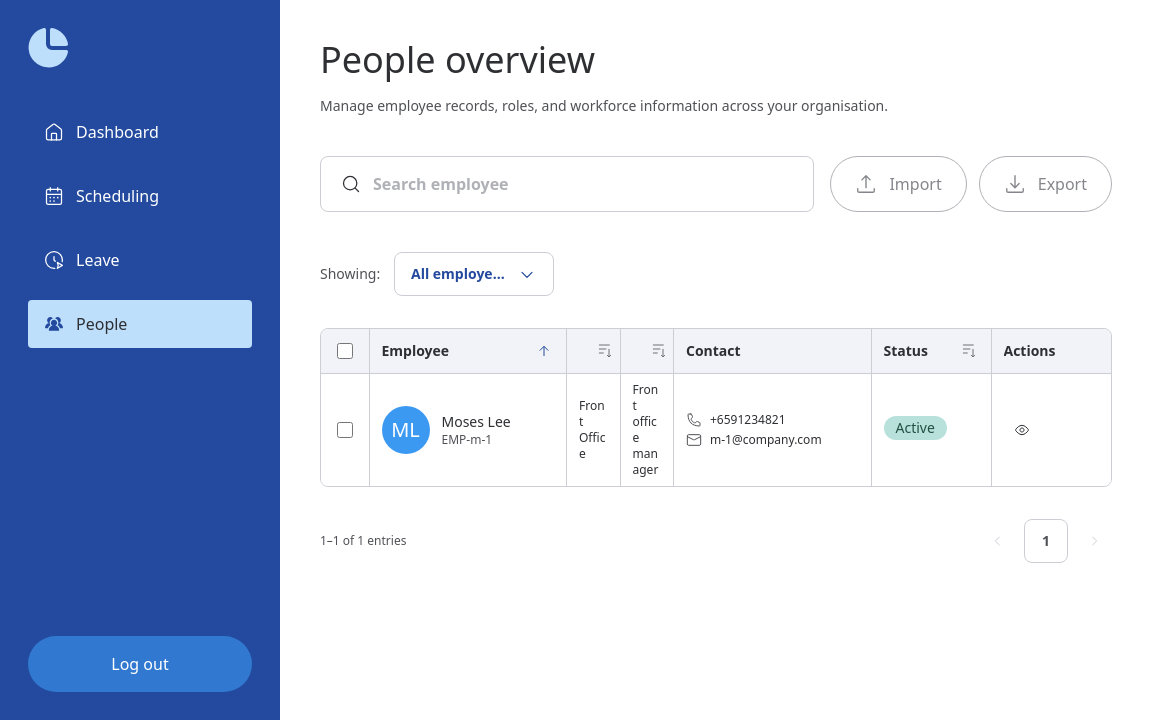
Test case: People › clears ticked people from the bulk bar
The width and height of the screenshot is (1152, 720).
Expected: the link "Moses Lee" is shown, x1=442 y1=412 x2=511 y2=432
Click the checkbox named "Select Moses Lee" next to "ML" at [345, 430], box x1=337 y1=422 x2=353 y2=438
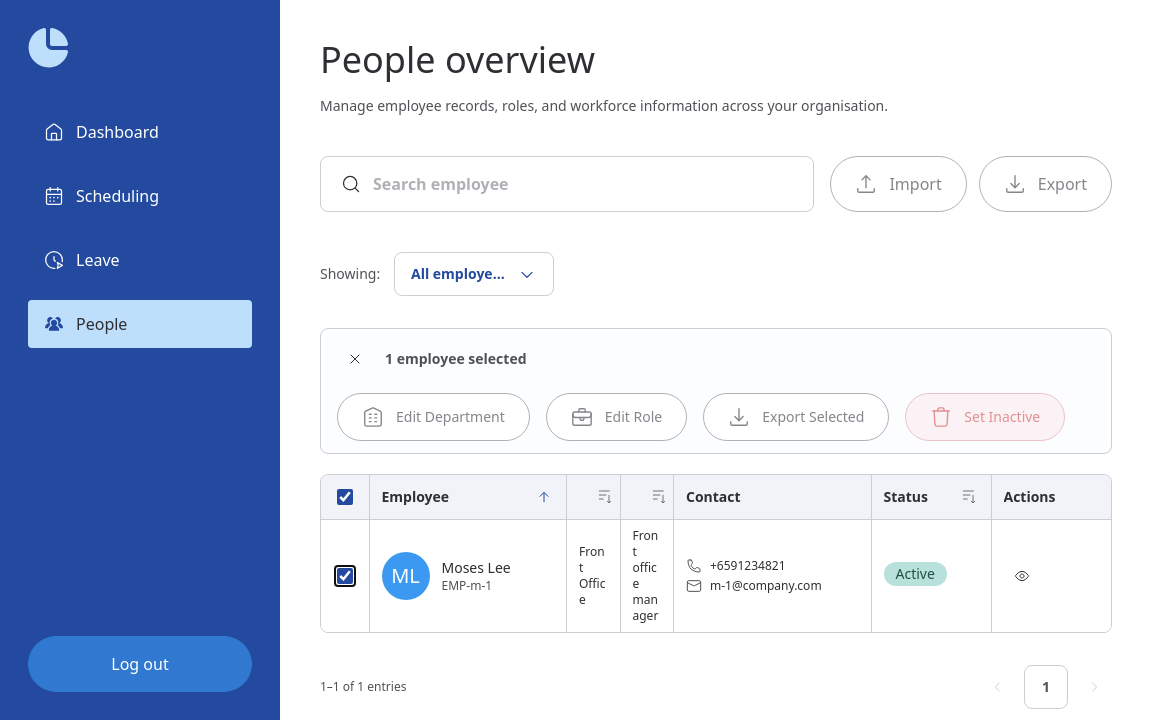
Result: the text "1 employee selected" is shown at x1=385 y1=349 x2=526 y2=369
Click the button named "Clear selection" at [355, 359], box x1=337 y1=341 x2=373 y2=377
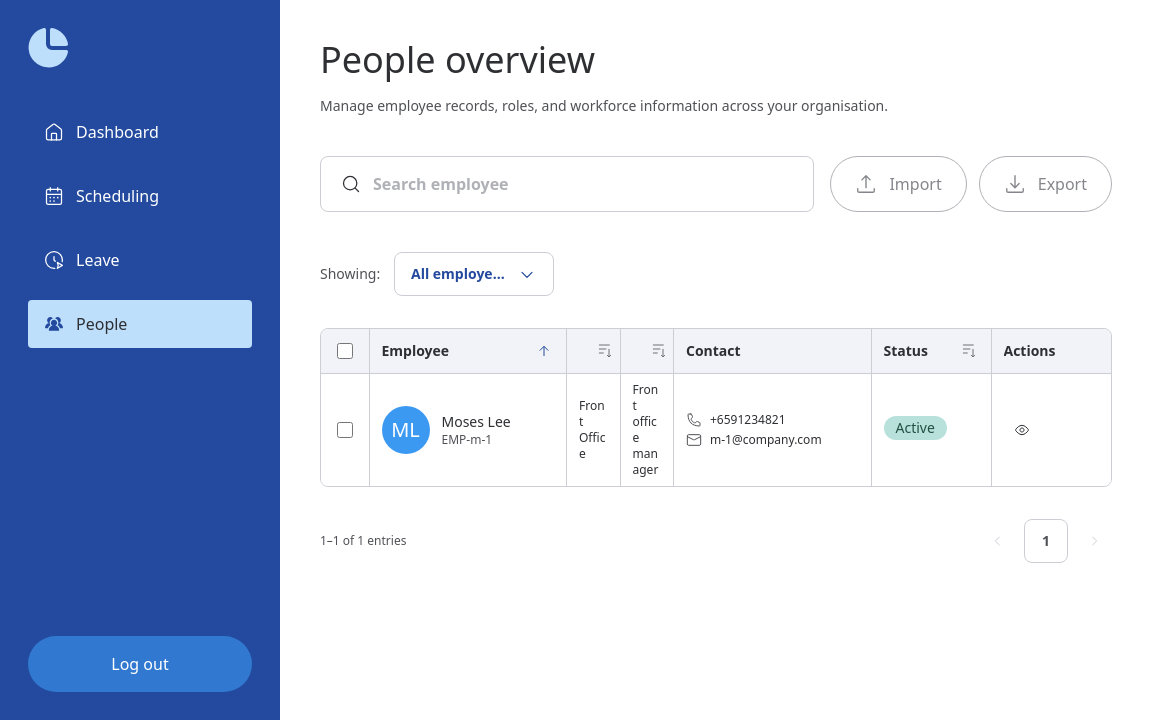
Result: the checkbox named "Select Moses Lee" next to "ML" is not checked at x1=337 y1=422 x2=353 y2=438
Result: the text "1 employee selected" is gone
